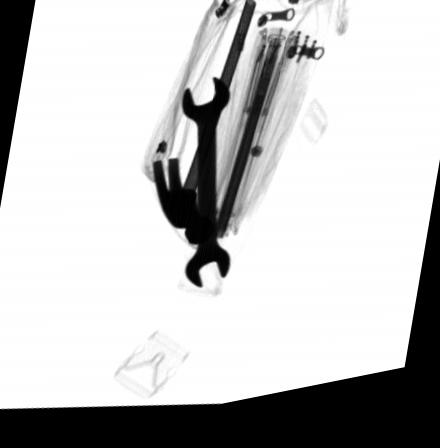Hammer: (150, 8, 257, 253)
Wrench: (179, 84, 230, 295)
